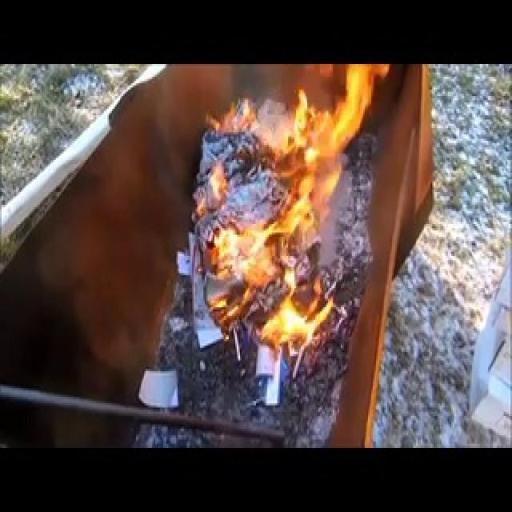smoke: (177, 64, 348, 354)
